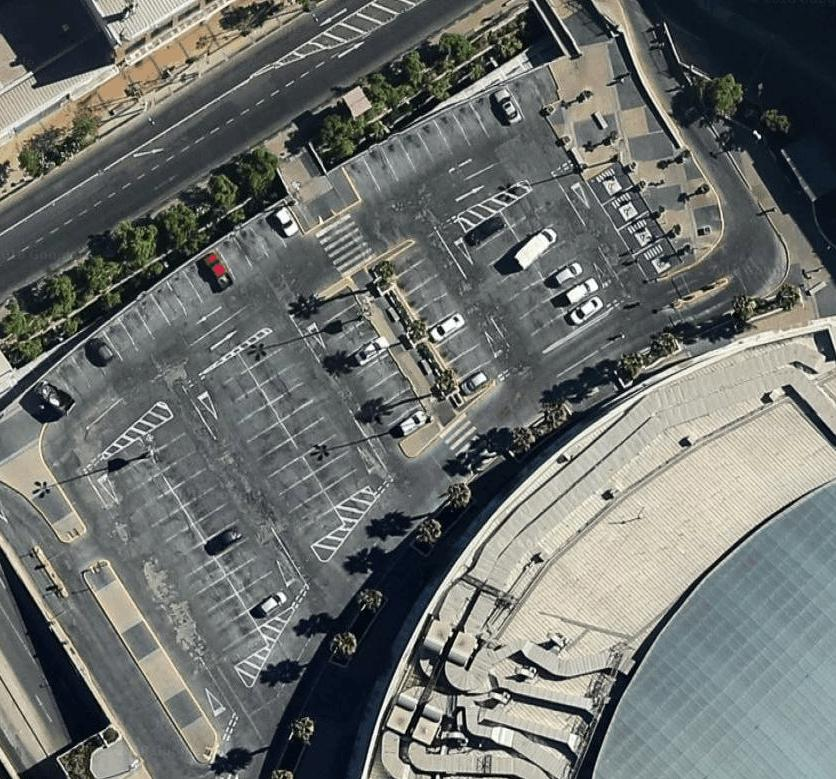parkingspot: (29, 198, 307, 419), (104, 436, 271, 670), (136, 414, 295, 630), (200, 352, 346, 549), (340, 70, 550, 204), (236, 329, 372, 510), (309, 285, 434, 445), (383, 241, 503, 399), (499, 188, 613, 333), (463, 210, 577, 355), (583, 159, 685, 285)
